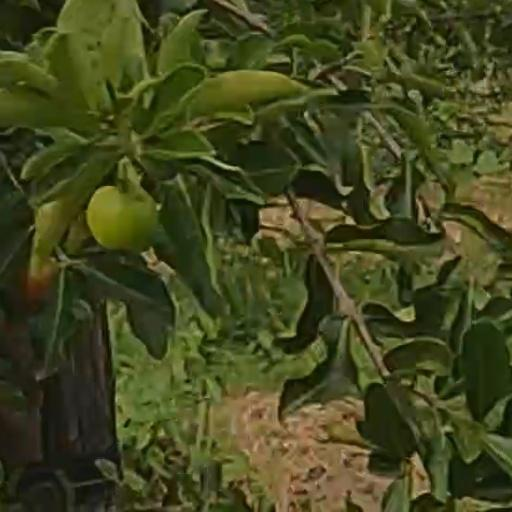acerola_verde: (92, 189, 156, 251)
